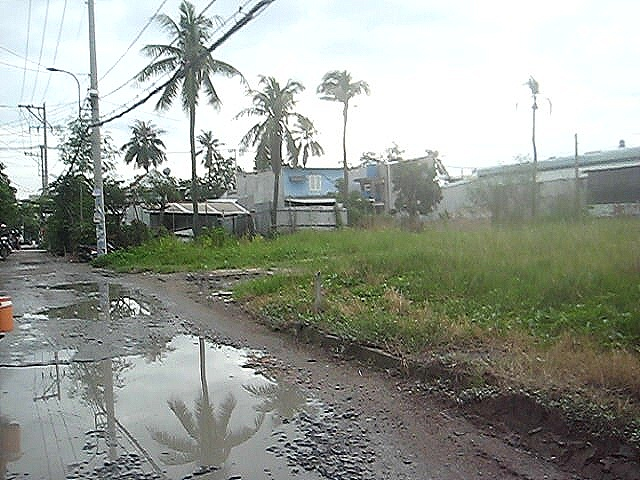hole: (1, 334, 336, 480), (17, 278, 175, 329), (14, 260, 45, 271)
